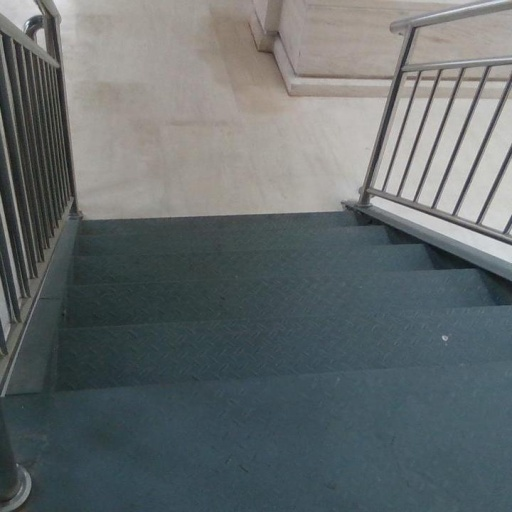Stairs: (58, 212, 512, 391)
